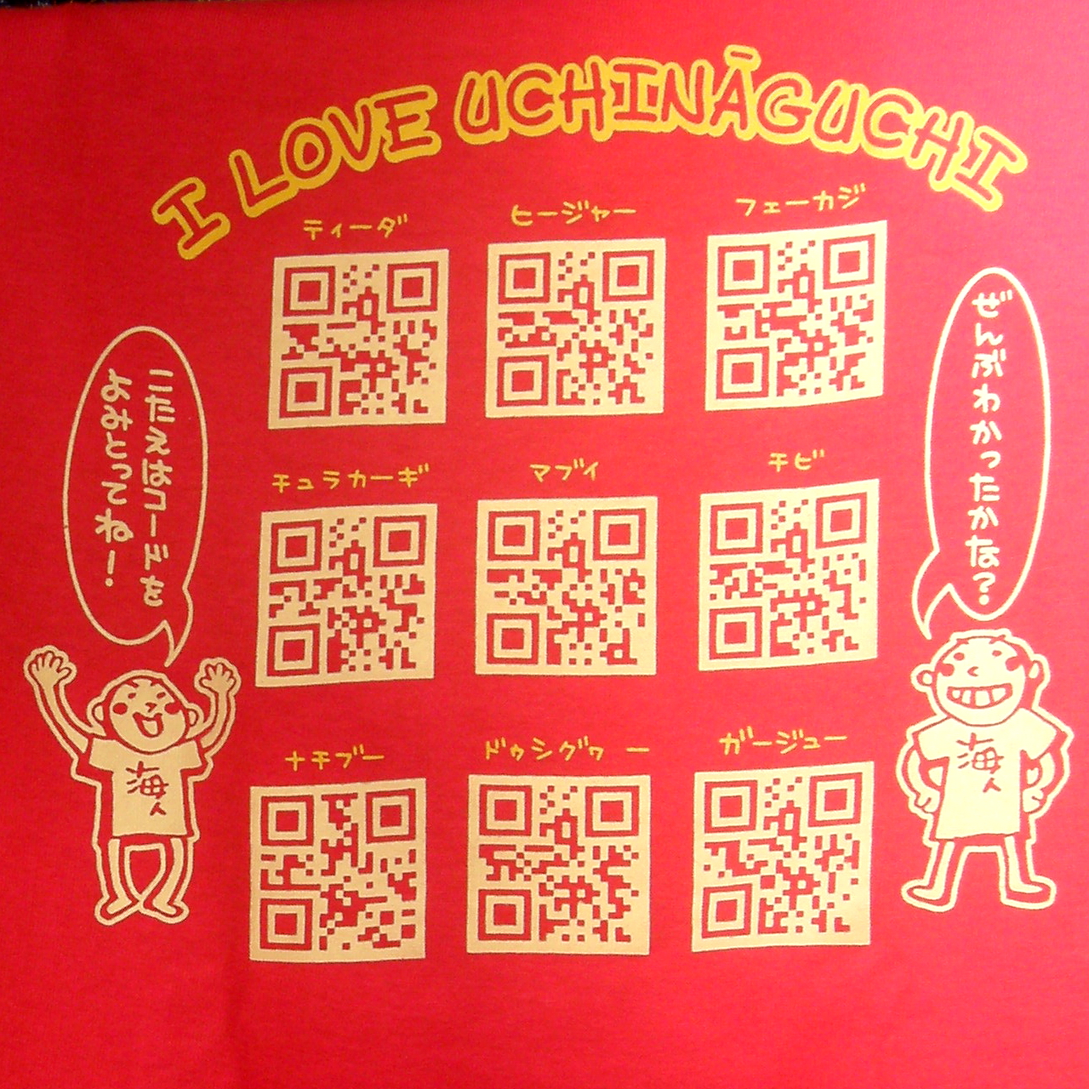QR-CODE: (701, 772, 862, 938), (716, 233, 875, 399), (709, 492, 866, 659), (266, 515, 426, 676), (477, 784, 639, 943), (278, 260, 438, 419), (259, 788, 415, 950), (496, 249, 654, 407), (486, 508, 646, 664)
